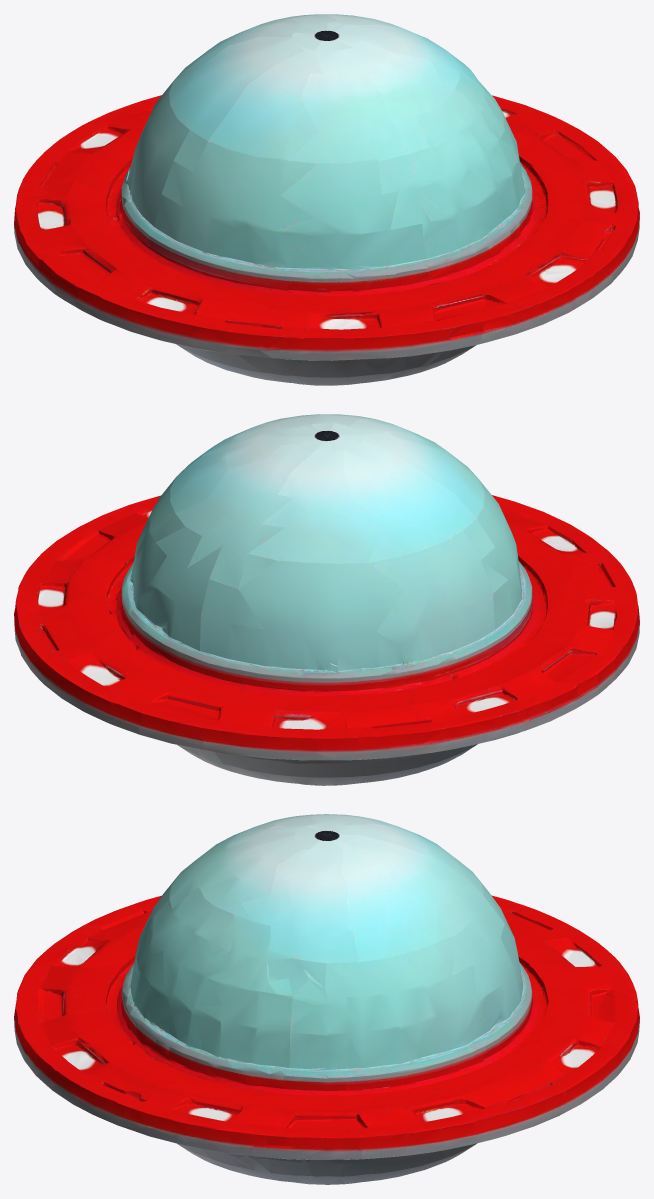
Rendered from veh_ufo.glb.
3 views of the same model, one above another, from view 1: azimuth 30°, elevation 25°; view 2: azimuth 150°, elevation 25°; view 3: azimuth 270°, elevation 25° (orthographic).
Bounding box in the file's own units: 1.9 × 1.04 × 1.9.
1 material, 1 textured.
